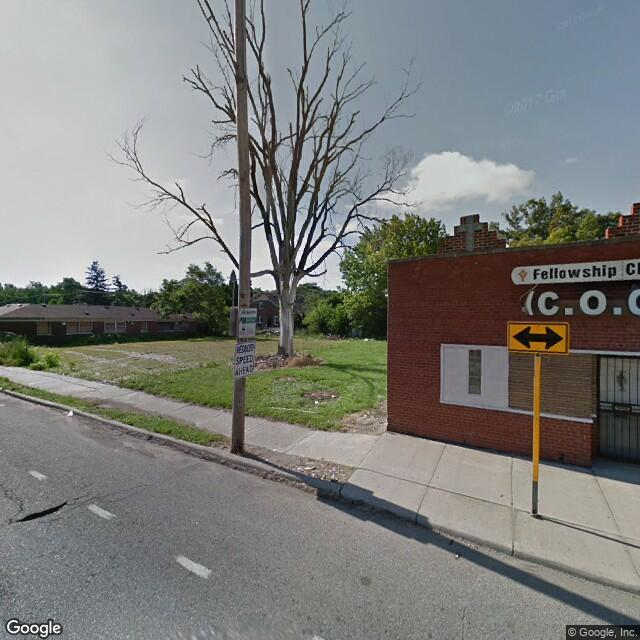litter: (261, 449, 280, 465), (62, 404, 80, 418)
